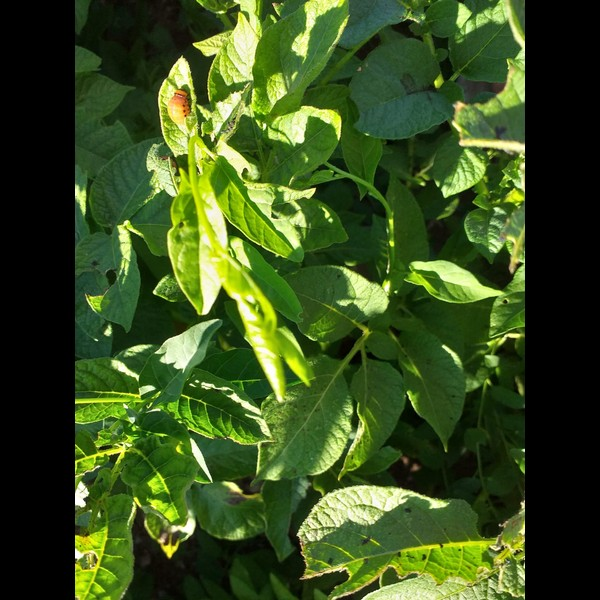hrosc: (164, 88, 191, 124)
